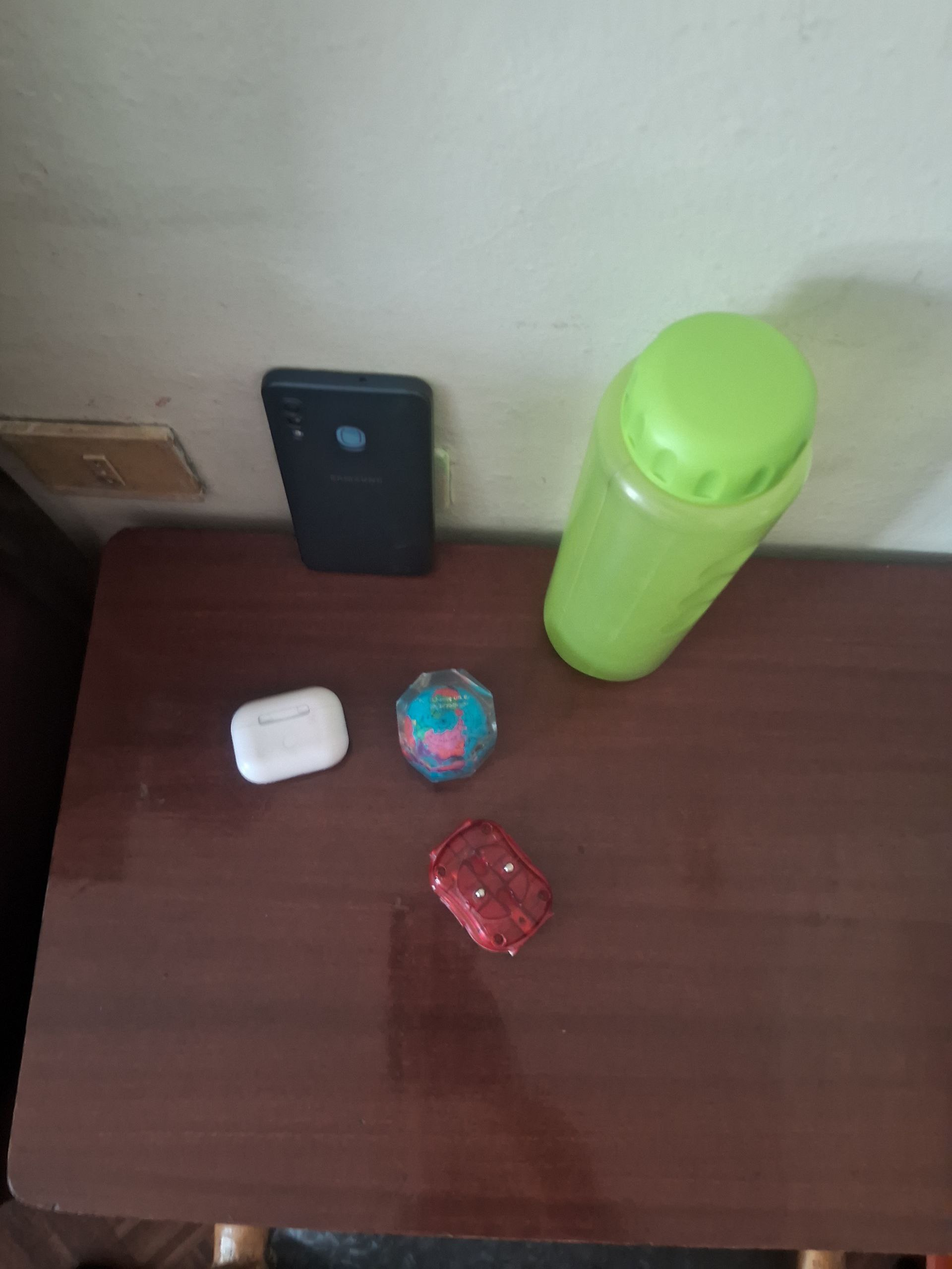Air_pod: (224, 680, 354, 787)
Multi_adapter: (426, 810, 560, 958)
Smart_phone: (253, 356, 453, 592)
Water_bottle: (535, 299, 828, 693)
world_globe: (390, 661, 509, 791)
